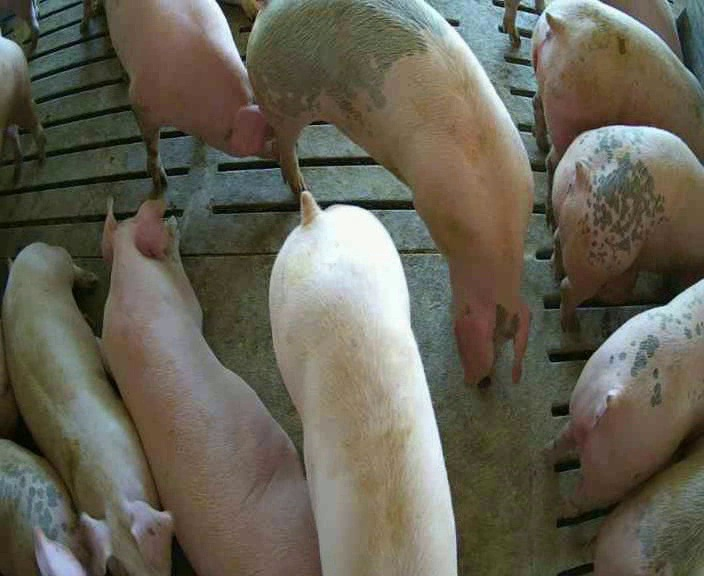pig: (247, 3, 532, 381), (103, 197, 318, 573), (269, 191, 455, 574), (2, 244, 172, 575), (546, 279, 703, 517), (105, 3, 273, 197), (552, 126, 703, 330), (532, 2, 703, 173), (594, 436, 703, 574)
